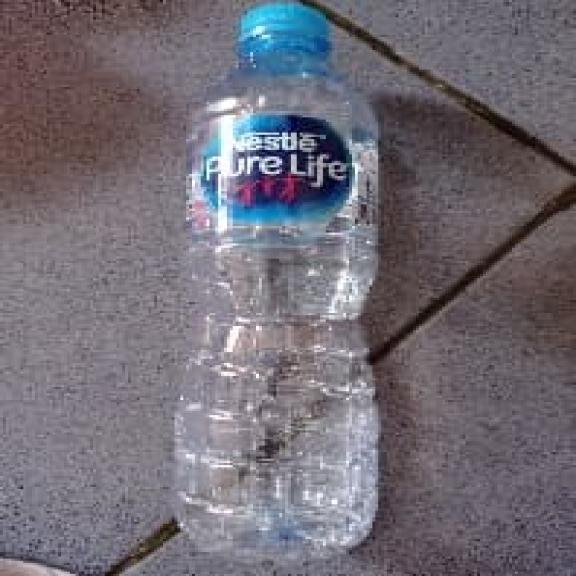Plastik: (125, 2, 381, 574)
